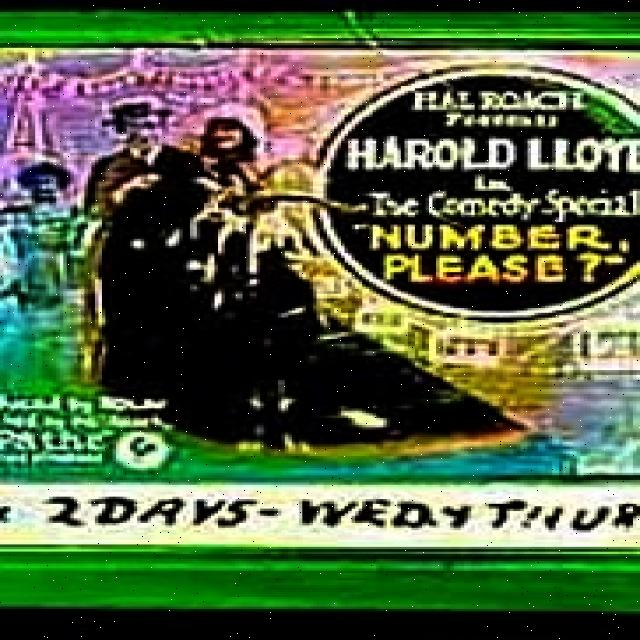movie-judul: (334, 74, 640, 301)
picture: (5, 104, 528, 450)
